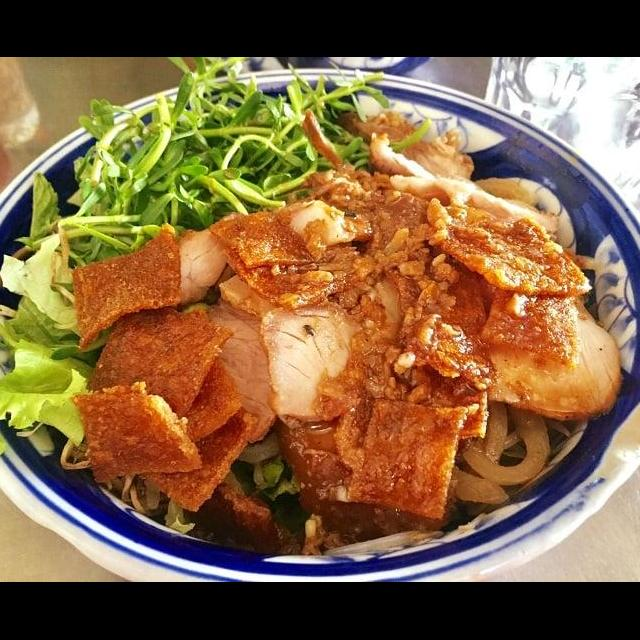banh da: (81, 298, 239, 422), (344, 394, 483, 524), (205, 223, 382, 320), (67, 220, 187, 354), (128, 404, 273, 514), (67, 378, 206, 488), (477, 245, 593, 372), (429, 215, 597, 302), (393, 271, 502, 394), (135, 350, 245, 452), (405, 354, 494, 446), (204, 204, 321, 272)
mi: (442, 396, 576, 510)
thit heo: (257, 298, 426, 550), (360, 126, 565, 246), (458, 286, 628, 426), (191, 302, 288, 448), (331, 106, 477, 190), (161, 212, 244, 314)
